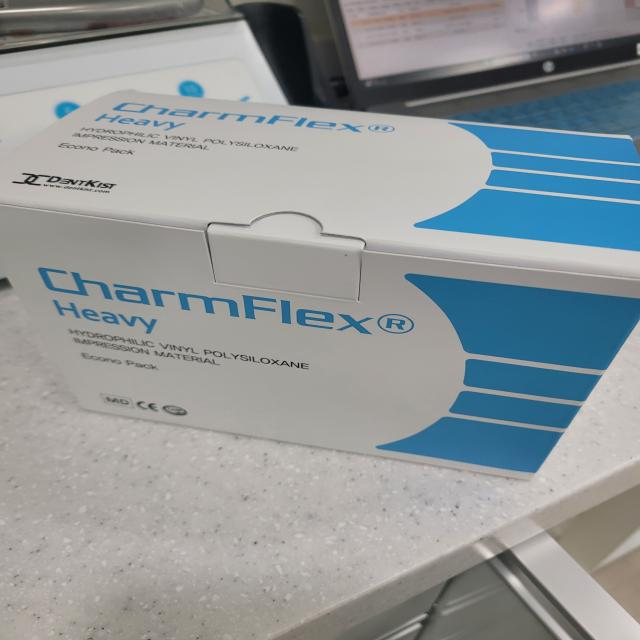impression: (0, 83, 640, 494)
